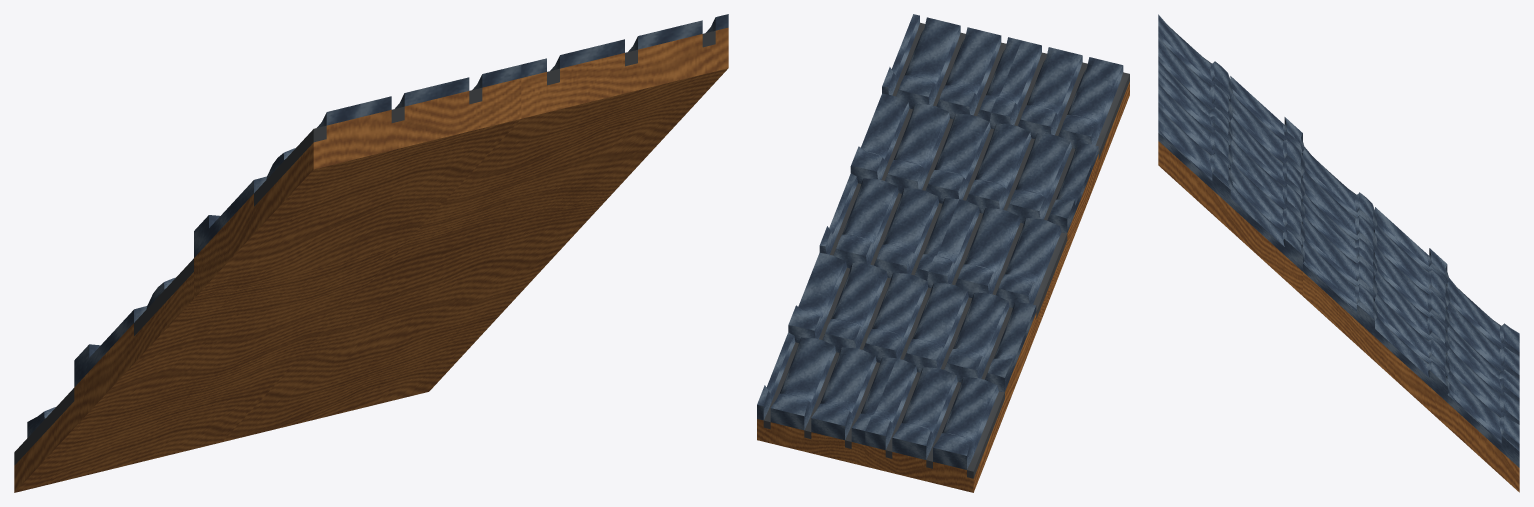
The model's file is roof_slate.glb.
3 renders of one model, left to right at view 1: azimuth 30°, elevation 25°; view 2: azimuth 150°, elevation 25°; view 3: azimuth 270°, elevation 25°, orthographic. The views are drawn at different scales.
Parts seen in each view (by area): view 1: town_roof_slate; view 2: town_roof_slate; view 3: town_roof_slate.
Part boxes in pixels (x1,y1,x2,y2): town_roof_slate: [14, 14, 728, 492]; town_roof_slate: [757, 14, 1129, 492]; town_roof_slate: [1158, 14, 1519, 492].
Bounding box in the file's own units: 1 × 1.38 × 1.25.
Materials: 2 (1 with a texture image).
